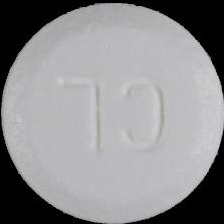68151-1471: (0, 0, 224, 224)
